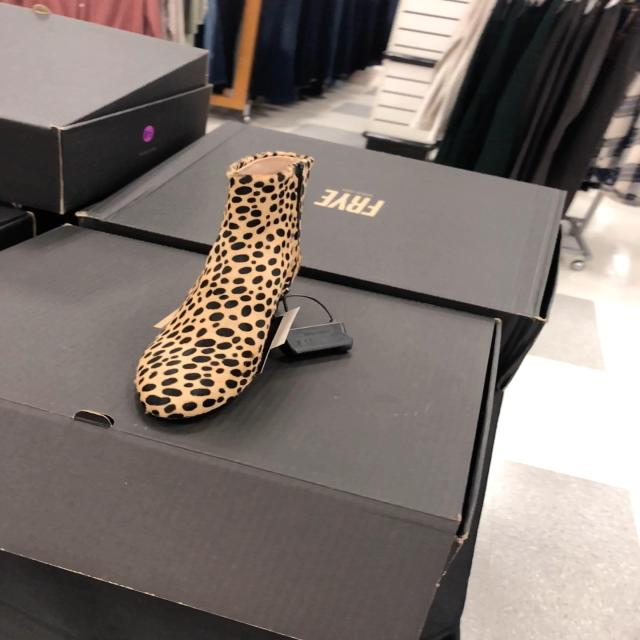shoe: (133, 150, 314, 425)
